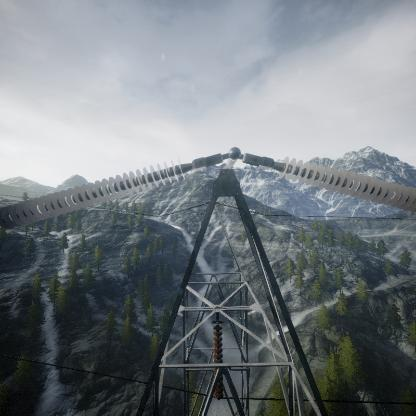insulator: (1, 156, 191, 232), (274, 157, 416, 210), (211, 321, 227, 399)
